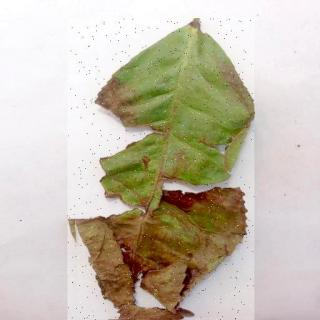Algal Leaf: (69, 19, 256, 320)
